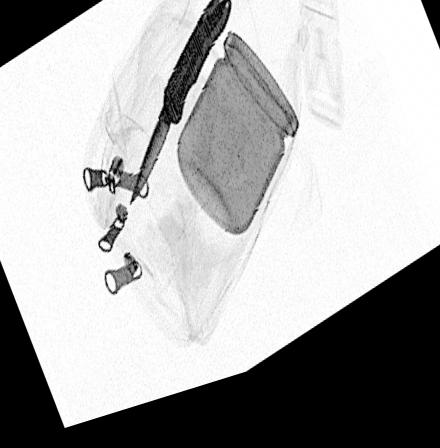Knife: (127, 3, 234, 217)
